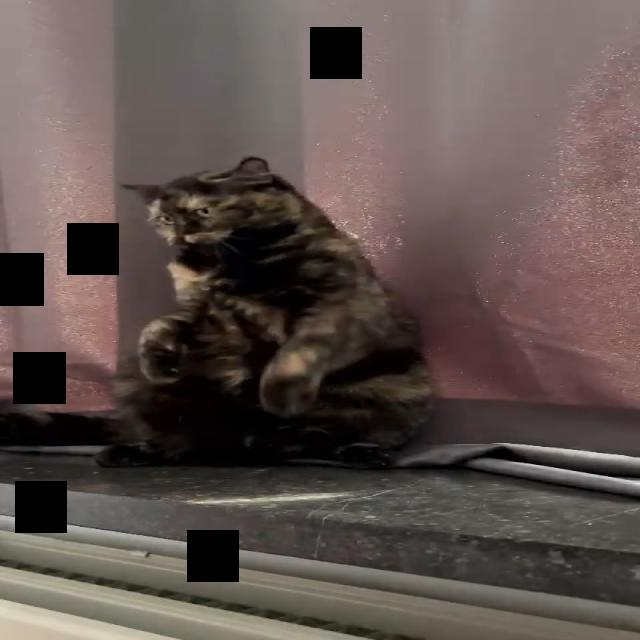authorized: (93, 154, 436, 468)
